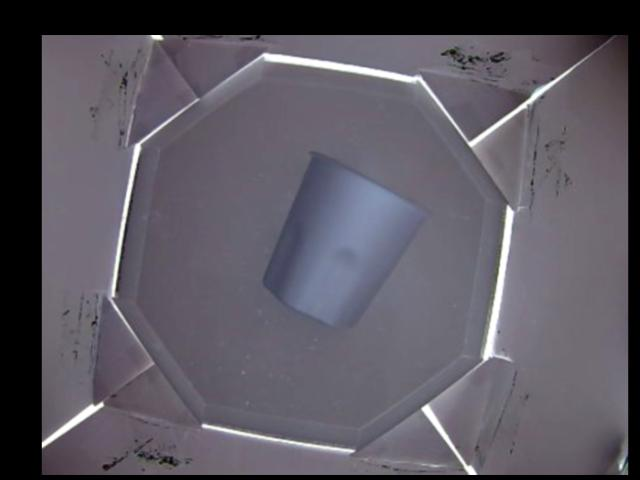Cup: (261, 150, 426, 327)
